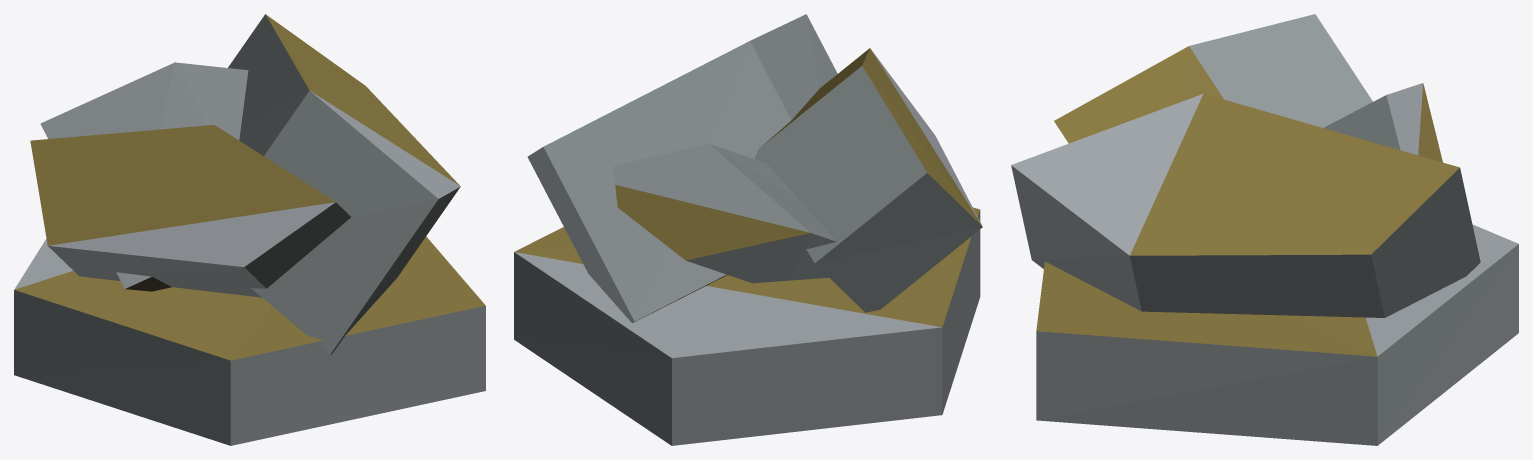
Rendered from rock.shard__outcrop__spring.glb.
3 views of the same model, side by side, from view 1: azimuth 30°, elevation 25°; view 2: azimuth 150°, elevation 25°; view 3: azimuth 270°, elevation 25° (orthographic). The views are drawn at different scales.
Parts seen in each view (by area): view 1: rock.shard; view 2: rock.shard; view 3: rock.shard.
Boxes of the visible parts, left/top/right/bottom form: rock.shard: left=14, top=14, right=485, bottom=445; rock.shard: left=514, top=14, right=982, bottom=445; rock.shard: left=1011, top=14, right=1518, bottom=445.
Bounding box in the file's own units: 1.64 × 1.06 × 1.76.
